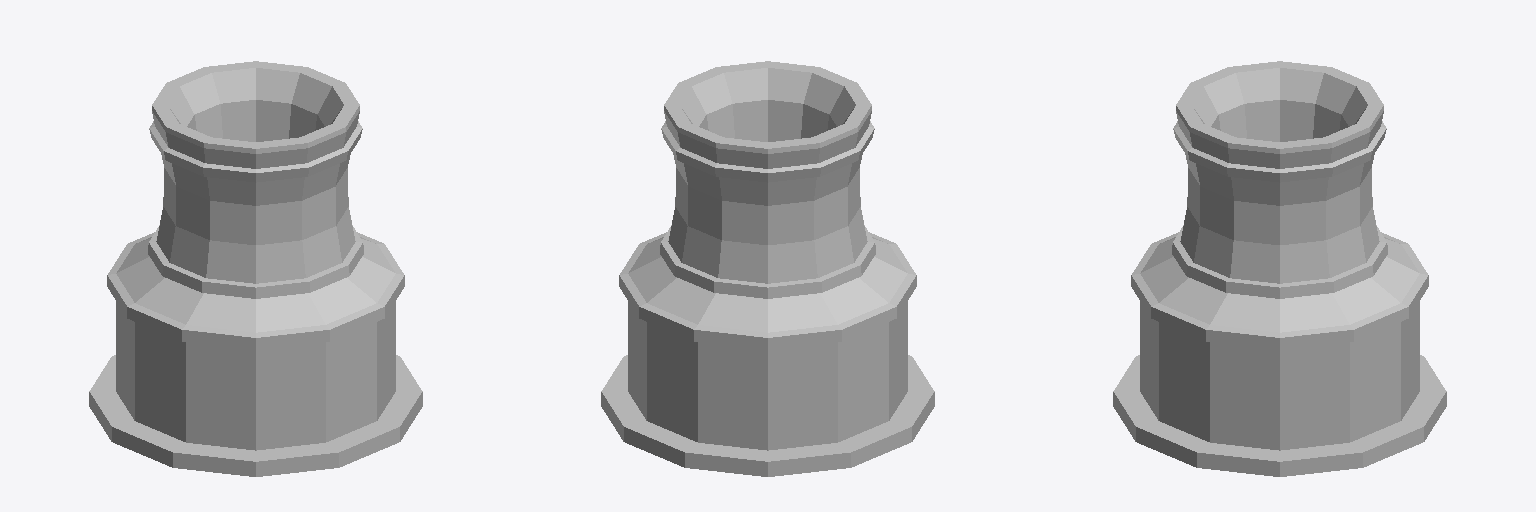
File: SciFi_Building_Large08.obj
The picture shows the model from 3 angles: view 1: azimuth 30°, elevation 25°; view 2: azimuth 150°, elevation 25°; view 3: azimuth 270°, elevation 25°; orthographic projection.
Visible parts, largest first — view 1: SM_Bld_Power_03; view 2: SM_Bld_Power_03; view 3: SM_Bld_Power_03.
Part boxes in pixels (x1,y1,x2,y2): SM_Bld_Power_03: (89,61,422,476); SM_Bld_Power_03: (601,61,934,476); SM_Bld_Power_03: (1113,61,1446,476).
Bounding box in the file's own units: 1 × 1 × 1.